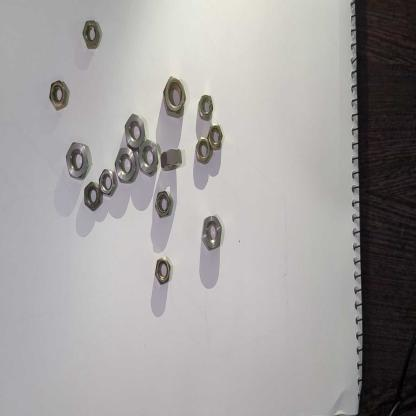NUTS: (162, 73, 185, 124), (64, 140, 89, 184), (200, 215, 224, 254), (123, 111, 147, 149), (115, 144, 137, 184), (159, 146, 186, 176), (80, 16, 100, 54), (196, 91, 216, 127), (152, 256, 173, 288), (82, 179, 100, 216), (48, 77, 68, 110), (206, 122, 226, 154), (152, 190, 172, 222), (96, 168, 116, 198), (194, 135, 212, 167)
